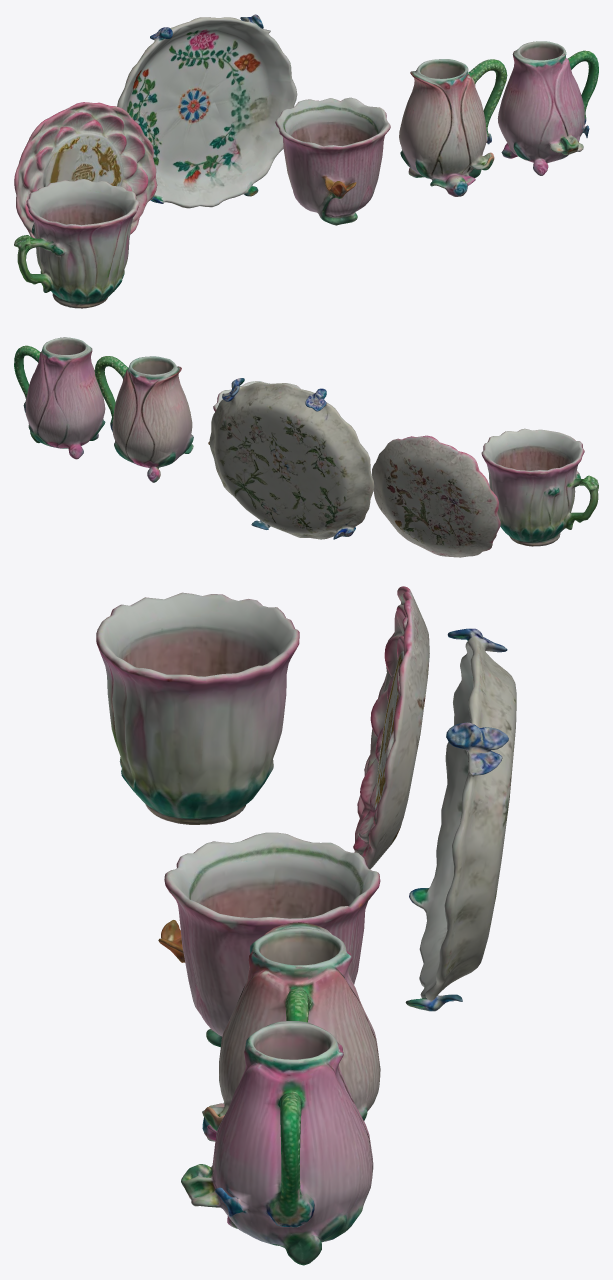
The model's file is 荷花套件.glb.
The picture shows the model from 3 angles, top to bottom: view 1: azimuth 30°, elevation 25°; view 2: azimuth 150°, elevation 25°; view 3: azimuth 270°, elevation 25°; orthographic projection. The views are drawn at different scales.
Parts seen in each view (by area): view 1: tripo_node_52cde5c6; view 2: tripo_node_52cde5c6; view 3: tripo_node_52cde5c6.
Part boxes in pixels (bbox=[...]): tripo_node_52cde5c6: bbox=[14, 14, 598, 308]; tripo_node_52cde5c6: bbox=[14, 337, 598, 557]; tripo_node_52cde5c6: bbox=[96, 586, 516, 1265].
Size of the model in its own units: 97.56 by 27.44 by 31.86.
1 material, 1 textured.
